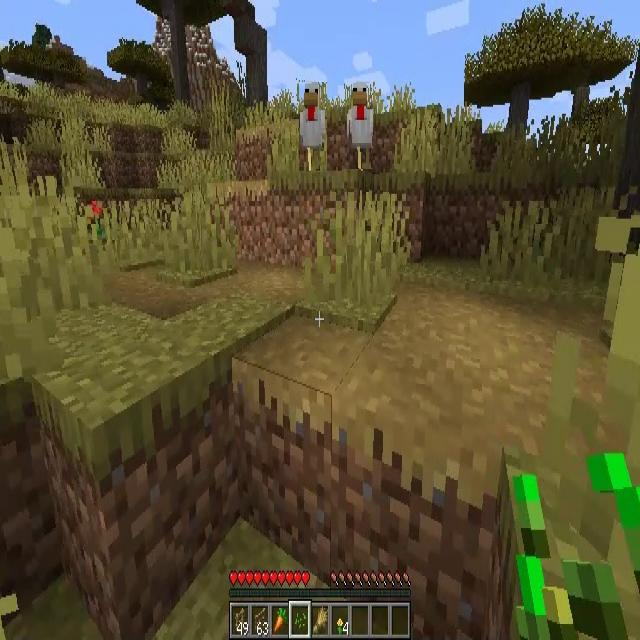duck: (299, 82, 327, 172), (349, 84, 373, 170)
